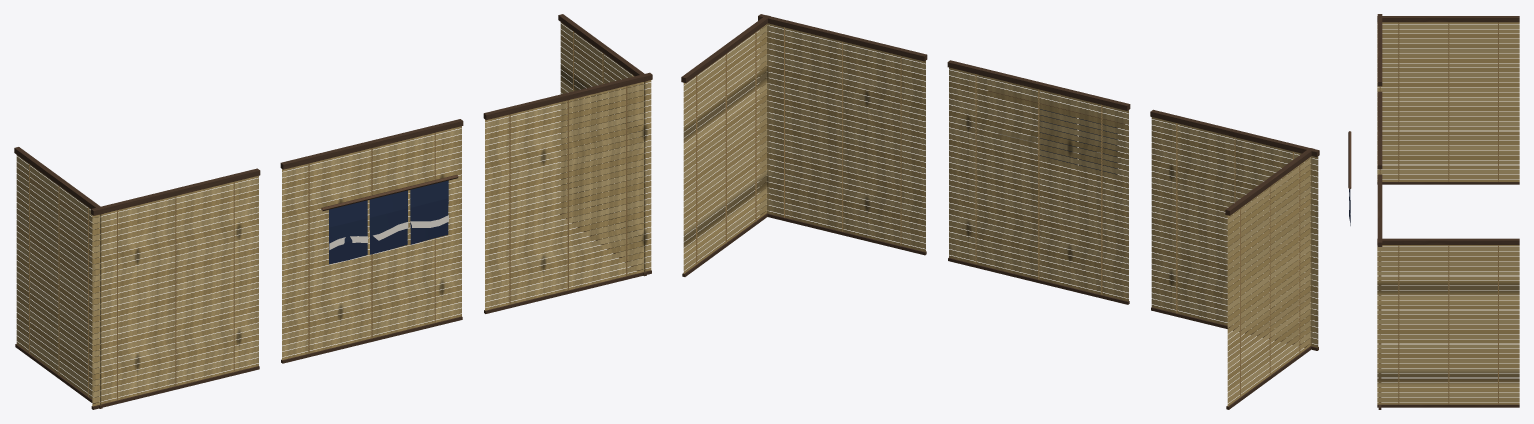
Rendered from sushi-bar-hours.glb.
3 views of the same model, side by side, from view 1: azimuth 30°, elevation 25°; view 2: azimuth 150°, elevation 25°; view 3: azimuth 270°, elevation 25° (orthographic). The views are drawn at different scales.
Parts seen in each view (by area): view 1: shutters, noren; view 2: shutters, noren; view 3: shutters, noren.
Part boxes in pixels (x1=…): shutters: x1=14, y1=14, x2=652, y2=409; noren: x1=321, y1=175, x2=458, y2=264; shutters: x1=681, y1=14, x2=1319, y2=409; noren: x1=988, y1=90, x2=1124, y2=174; shutters: x1=1377, y1=14, x2=1519, y2=409; noren: x1=1348, y1=131, x2=1351, y2=225.
Size of the model in its own units: 8.26 by 2.81 by 2.62.
Materials: 3 (2 with a texture image).
